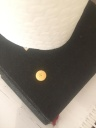Nurofen: (35, 69, 47, 82)
